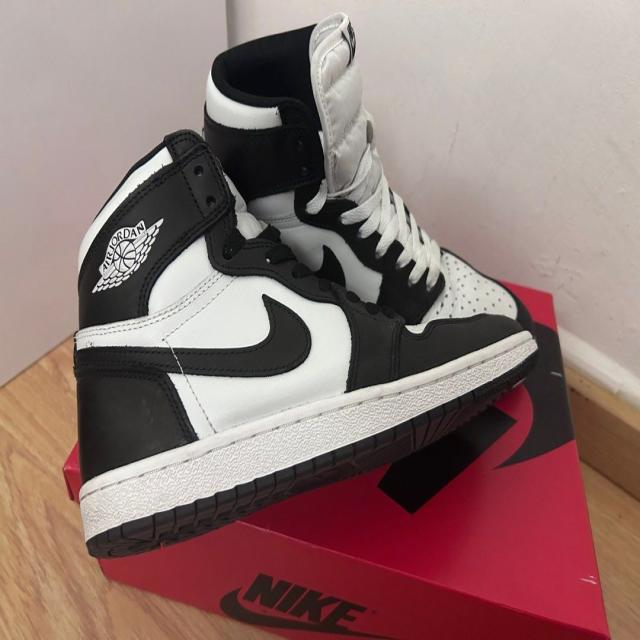nike original jordan 1: (76, 130, 542, 566), (202, 15, 554, 412)
